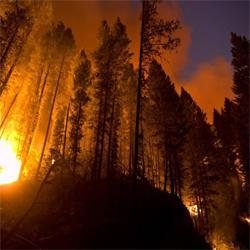fire: (0, 141, 21, 182)
